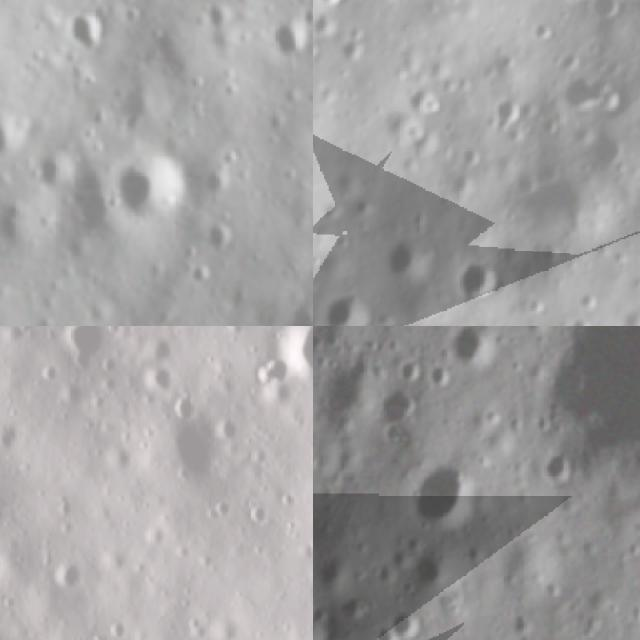crater: (543, 326, 640, 460), (148, 408, 241, 504), (101, 145, 192, 240), (252, 326, 313, 407), (407, 456, 475, 525), (49, 326, 122, 379), (112, 79, 173, 142), (132, 352, 195, 410), (56, 2, 116, 62), (23, 147, 82, 205), (258, 14, 313, 70), (561, 69, 624, 116), (386, 227, 433, 284), (0, 100, 36, 171), (0, 512, 25, 614), (375, 383, 420, 439), (457, 251, 502, 304), (323, 282, 375, 326), (586, 119, 632, 163), (448, 326, 495, 367), (537, 445, 578, 490), (193, 218, 236, 258), (332, 16, 375, 56), (387, 603, 424, 640), (198, 165, 234, 202), (418, 544, 449, 586), (313, 0, 343, 34), (427, 363, 463, 389), (585, 0, 625, 22), (404, 357, 428, 390), (374, 313, 434, 326), (314, 0, 347, 7)
